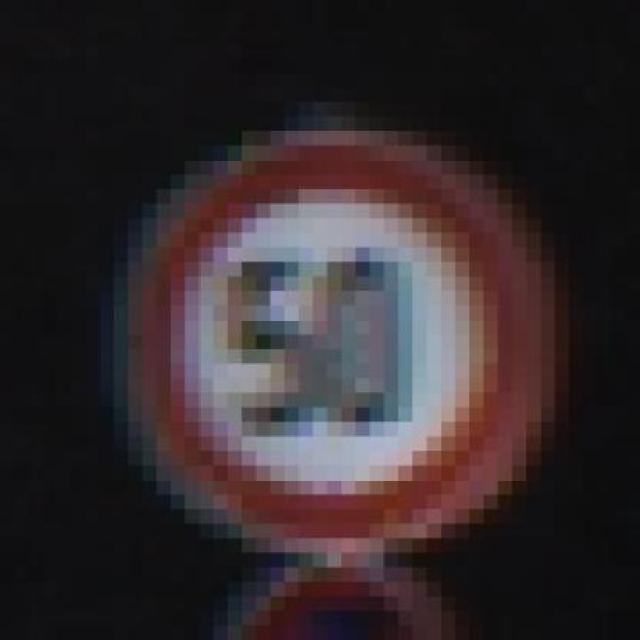50 mph speed limit: (117, 82, 558, 576)
